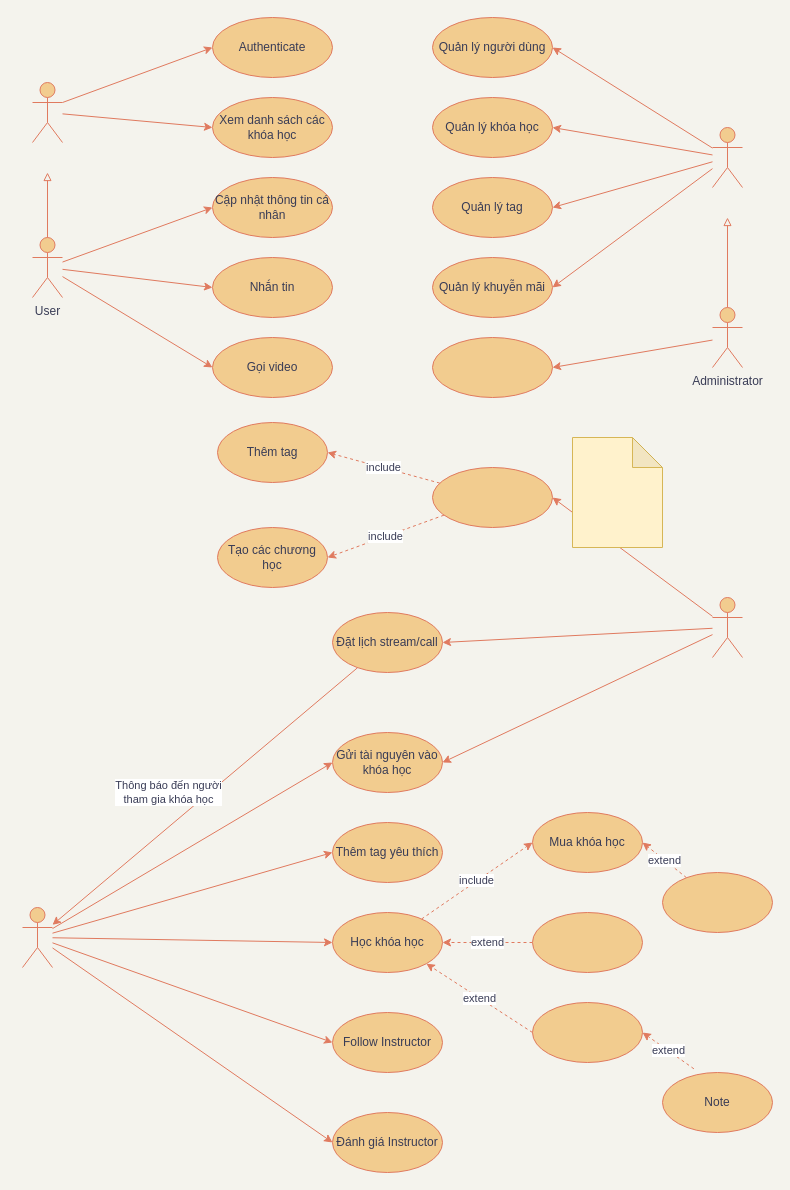
The diagram is 790 pixels wide and 1190 high, and some of its shapes have lost their labels. Each missing label, with the centre of its shape:
"Guest" belongs at (x=47, y=112).
"Instructor" belongs at (x=727, y=627).
"Khóa học: - Full stream - Recorded - Mix" belongs at (x=617, y=492).
"Moderator" belongs at (x=727, y=157).
"Quản lý admin/mod" belongs at (x=492, y=367).
"Student" belongs at (x=37, y=937).
"Tham gia phòng họp trực tuyến" belongs at (x=587, y=942).
"Tạo khóa học" belongs at (x=492, y=497).
"Xem nội dung khóa học có sẵn" belongs at (x=587, y=1032).
"Đánh giá khóa học" belongs at (x=717, y=902).
